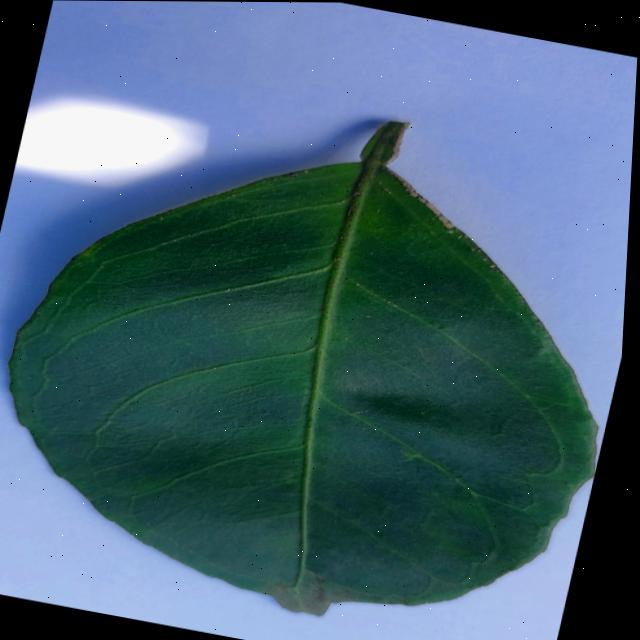greening: (9, 120, 594, 613)
